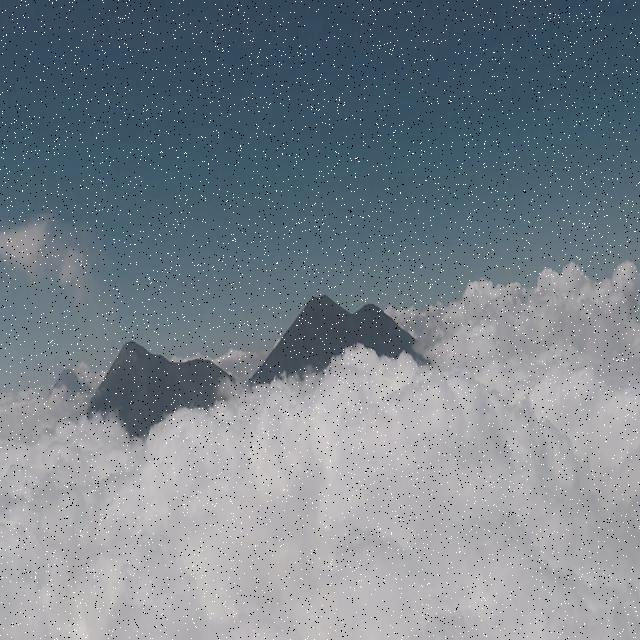Summit: (108, 337, 172, 374)
